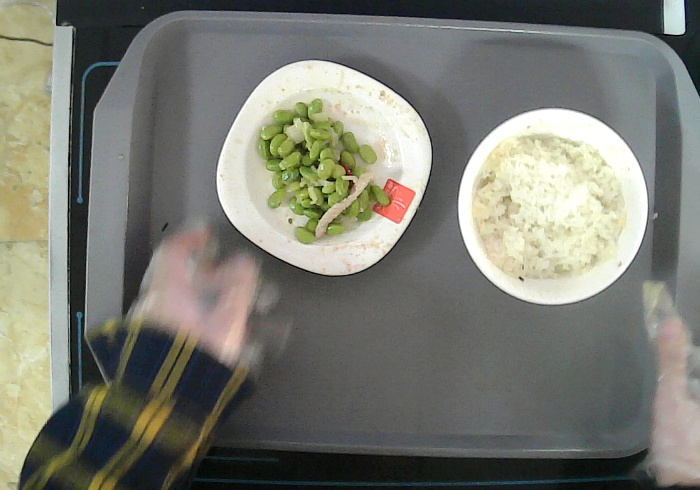SHKJ-Bai_Se_Si_Fang_Cai_Die: (214, 57, 435, 279)
SHKJ-Fan_Wan: (456, 106, 652, 309)
